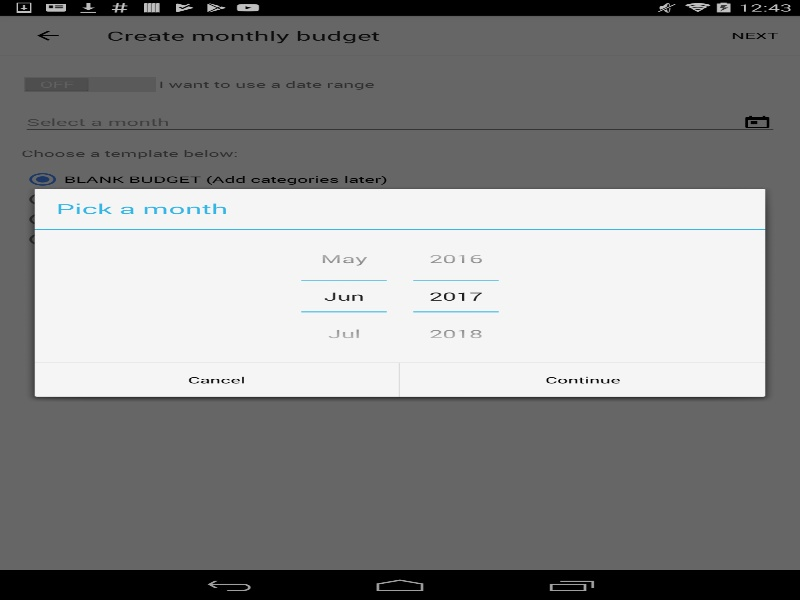Button: (400, 363, 765, 396), (34, 363, 398, 396), (301, 240, 386, 281), (301, 311, 386, 352), (413, 240, 498, 281), (413, 311, 498, 352)
Input: (301, 281, 386, 311), (413, 281, 498, 311)
